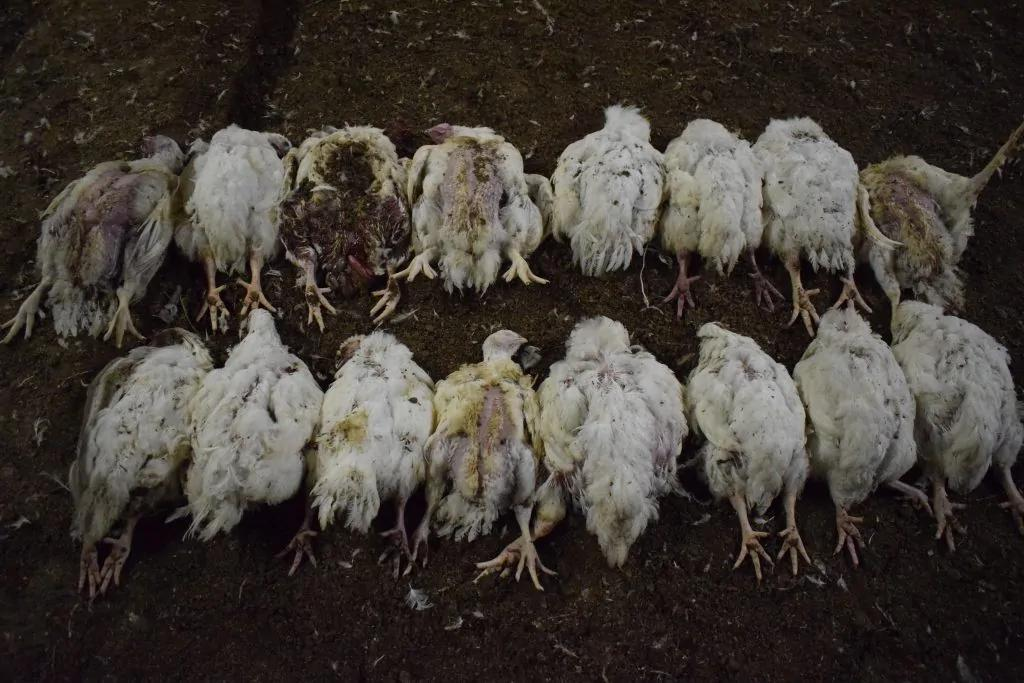AbNormal: (670, 325, 823, 577), (23, 119, 188, 345), (560, 313, 691, 597), (790, 317, 939, 564), (879, 303, 1024, 553), (435, 327, 549, 581), (77, 345, 199, 581), (750, 107, 882, 320), (847, 119, 984, 313), (409, 122, 555, 303), (659, 112, 784, 319), (322, 336, 434, 553), (182, 115, 300, 319), (550, 102, 675, 276), (206, 322, 312, 527), (309, 116, 411, 318)
